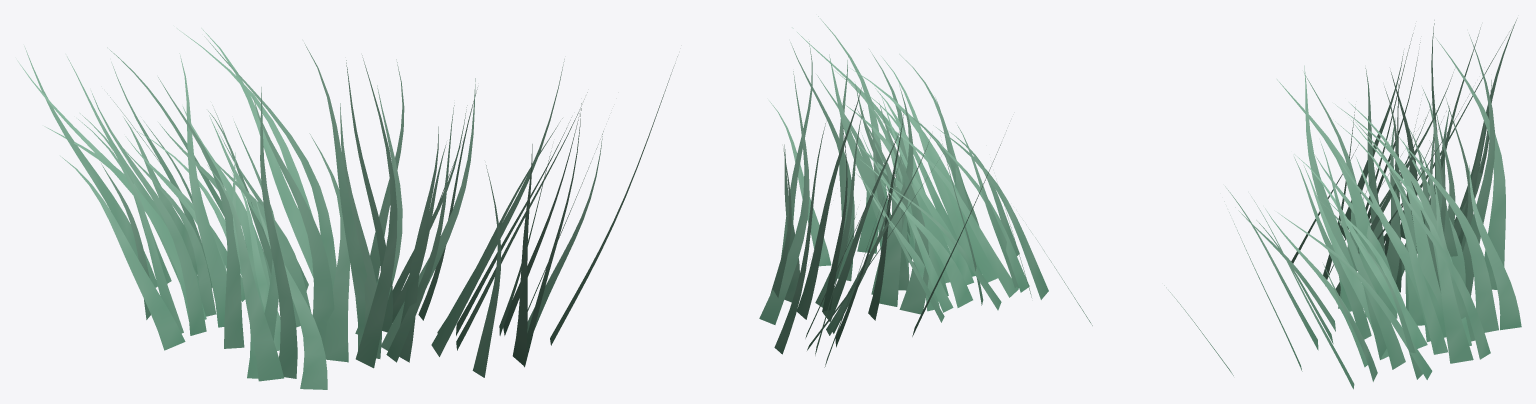
Rendered from mesh-plant-018-jade-puff_LOD0.glb.
3 renders of one model, left to right at view 1: azimuth 30°, elevation 25°; view 2: azimuth 150°, elevation 25°; view 3: azimuth 270°, elevation 25°, orthographic. The views are drawn at different scales.
Visible parts, largest first — view 1: geometry_0; view 2: geometry_0; view 3: geometry_0.
Boxes of the visible parts, x1=… form: geometry_0: x1=17, y1=28, x2=677, y2=389; geometry_0: x1=759, y1=16, x2=1092, y2=367; geometry_0: x1=1164, y1=18, x2=1521, y2=389.
Bounding box in the file's own units: 1.55 × 0.7829 × 1.09.
